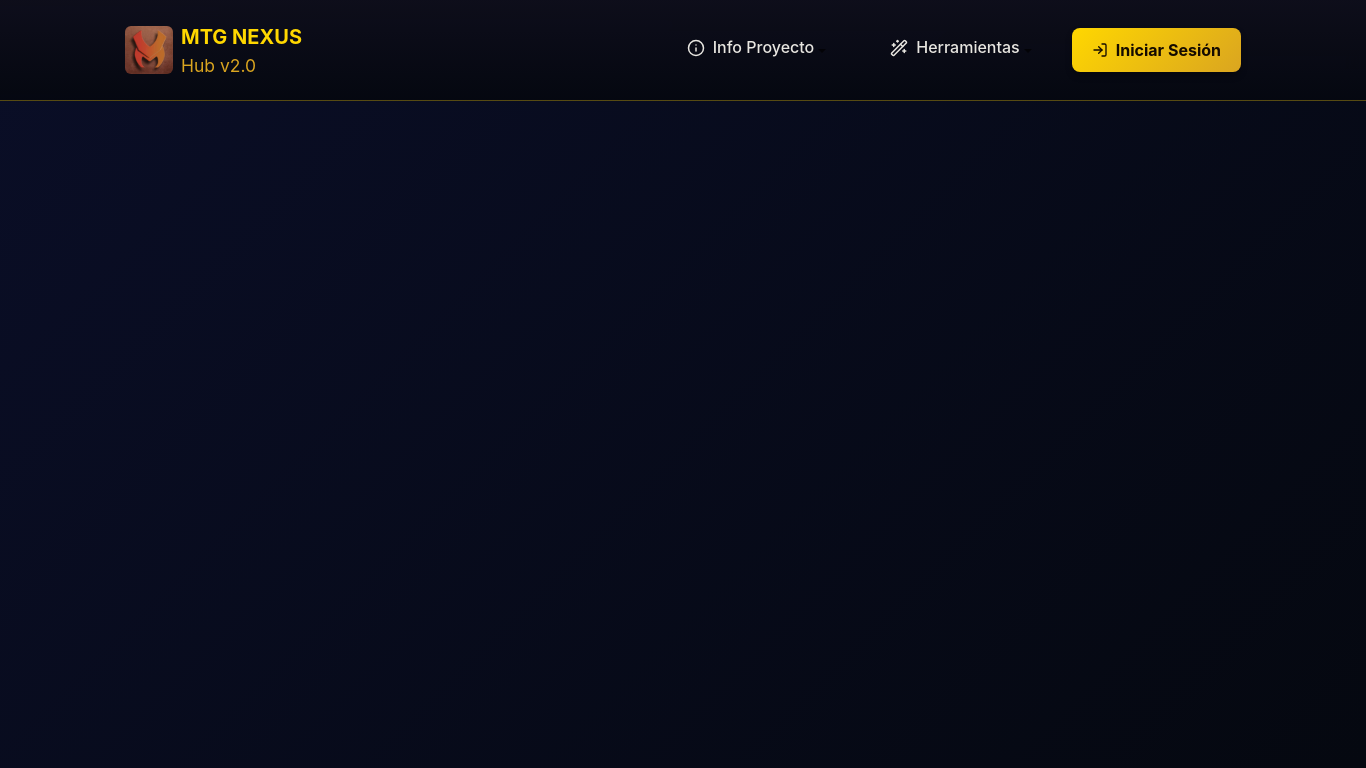
it: Navbar Component - v2.0 MTG Branding (Bootstrap) › Usuario no autenticado › debería listar elementos del dropdown Info Proyecto
This screenshot has width=1366, height=768.
Click the button "Info Proyecto" at (750, 47), box [687,37,814,57]
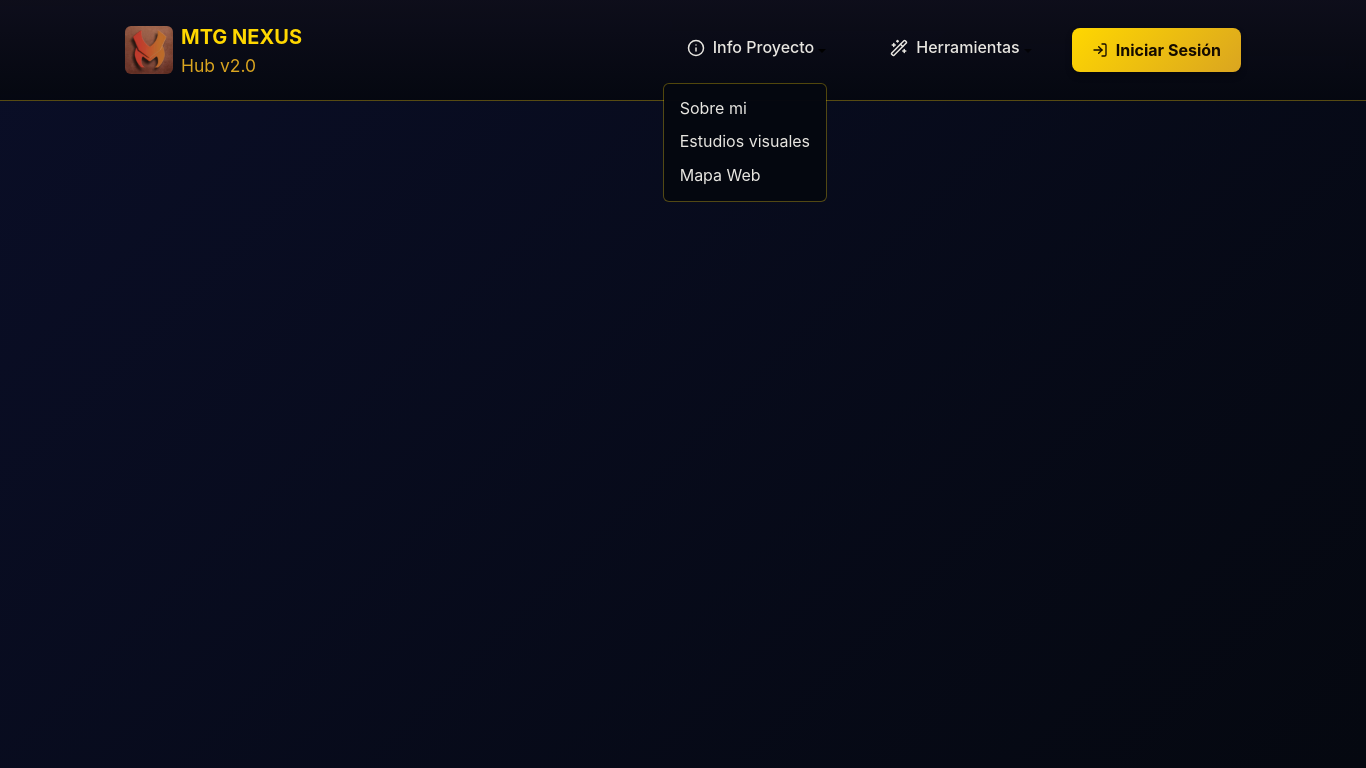
Expected: the link "Sobre mi" is shown, [680,98,747,118]
Expected: the link "Estudios visuales" is shown, [680,131,810,151]
Expected: the link "Mapa Web" is shown, [680,165,761,185]
